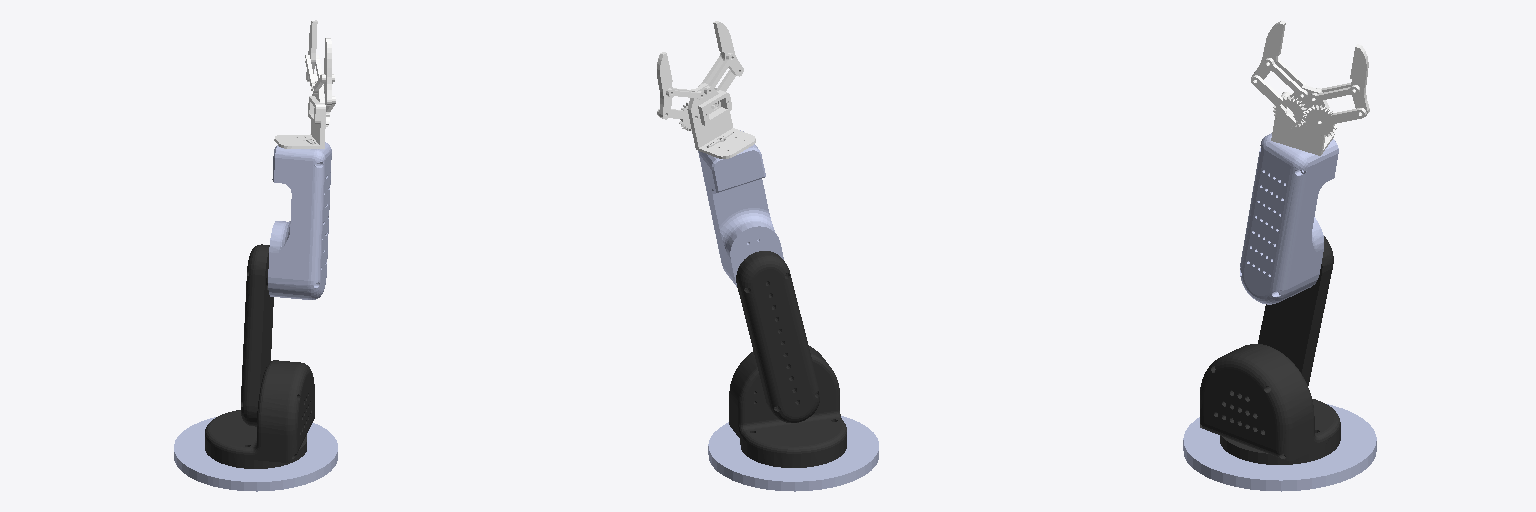
robot.urdf — Assembly.SLDASM:
<?xml version="1.0" encoding="utf-8"?>
<!-- This URDF was automatically created by SolidWorks to URDF Exporter! Originally created by Stephen Brawner (brawner@gmail.com) 
     Commit Version: 1.6.0-4-g7f85cfe  Build Version: 1.6.7995.38578
     For more information, please see http://wiki.ros.org/sw_urdf_exporter -->
<robot
  name="Assembly.SLDASM">
  <link
    name="base_link">
    <inertial>
      <origin
        xyz="0.59467 0.81201 1.311"
        rpy="0 0 0" />
      <mass
        value="0.20106" />
      <inertia
        ixx="0.00032337"
        ixy="-3.0943E-19"
        ixz="-3.4728E-20"
        iyy="0.0006434"
        iyz="1.0638E-18"
        izz="0.00032337" />
    </inertial>
    <visual>
      <origin
        xyz="0 0 0"
        rpy="0 0 0" />
      <geometry>
        <mesh
          filename="meshes/base_link.STL" />
      </geometry>
      <material
        name="">
        <color
          rgba="0.79216 0.81961 0.93333 1" />
      </material>
    </visual>
    <collision>
      <origin
        xyz="0 0 0"
        rpy="0 0 0" />
      <geometry>
        <mesh
          filename="meshes/base_link.STL" />
      </geometry>
    </collision>
  </link>
  <link
    name="Joint_1">
    <inertial>
      <origin
        xyz="0.013931 0.032196 0.00026755"
        rpy="0 0 0" />
      <mass
        value="0.25173" />
      <inertia
        ixx="0.00037252"
        ixy="-7.5458E-05"
        ixz="-7.0899E-07"
        iyy="0.00037014"
        iyz="-1.296E-06"
        izz="0.00032283" />
    </inertial>
    <visual>
      <origin
        xyz="0 0 0"
        rpy="0 0 0" />
      <geometry>
        <mesh
          filename="meshes/Joint_1.STL" />
      </geometry>
      <material
        name="">
        <color
          rgba="0.25098 0.25098 0.25098 1" />
      </material>
    </visual>
    <collision>
      <origin
        xyz="0 0 0"
        rpy="0 0 0" />
      <geometry>
        <mesh
          filename="meshes/Joint_1.STL" />
      </geometry>
    </collision>
  </link>
  <joint
    name="Joint_1"
    type="revolute">
    <origin
      xyz="0.59467 -1.311 0.81701"
      rpy="1.5708 0 -0.73072" />
    <parent
      link="base_link" />
    <child
      link="Joint_1" />
    <axis
      xyz="0 1 0" />
    <limit
      lower="-1.5708"
      upper="1.5708"
      effort="10"
      velocity="1" />
  </joint>
  <link
    name="Joint_2">
    <inertial>
      <origin
        xyz="-0.065 0.0021095 -1.5105E-07"
        rpy="0 0 0" />
      <mass
        value="0.12825" />
      <inertia
        ixx="3.1366E-05"
        ixy="-1.199E-11"
        ixz="3.2943E-11"
        iyy="0.00033268"
        iyz="2.323E-10"
        izz="0.00031027" />
    </inertial>
    <visual>
      <origin
        xyz="0 0 0"
        rpy="0 0 0" />
      <geometry>
        <mesh
          filename="meshes/Joint_2.STL" />
      </geometry>
      <material
        name="">
        <color
          rgba="0.25098 0.25098 0.25098 1" />
      </material>
    </visual>
    <collision>
      <origin
        xyz="0 0 0"
        rpy="0 0 0" />
      <geometry>
        <mesh
          filename="meshes/Joint_2.STL" />
      </geometry>
    </collision>
  </link>
  <joint
    name="Joint_2"
    type="revolute">
    <origin
      xyz="0 0.05 0"
      rpy="3.1416 -0.22804 -1.5708" />
    <parent
      link="Joint_1" />
    <child
      link="Joint_2" />
    <axis
      xyz="0 1 0" />
    <limit
      lower="-1.5708"
      upper="1.5708"
      effort="10"
      velocity="1" />
  </joint>
  <link
    name="Joint_3">
    <inertial>
      <origin
        xyz="0.038371 -1.2821E-05 -0.054604"
        rpy="0 0 0" />
      <mass
        value="0.17573" />
      <inertia
        ixx="0.00042327"
        ixy="-7.7642E-08"
        ixz="-7.3921E-08"
        iyy="0.00042384"
        iyz="2.0994E-07"
        izz="9.0533E-05" />
    </inertial>
    <visual>
      <origin
        xyz="0 0 0"
        rpy="0 0 0" />
      <geometry>
        <mesh
          filename="meshes/Joint_3.STL" />
      </geometry>
      <material
        name="">
        <color
          rgba="0.79216 0.81961 0.93333 1" />
      </material>
    </visual>
    <collision>
      <origin
        xyz="0 0 0"
        rpy="0 0 0" />
      <geometry>
        <mesh
          filename="meshes/Joint_3.STL" />
      </geometry>
    </collision>
  </link>
  <joint
    name="Joint_3"
    type="revolute">
    <origin
      xyz="-0.13 0 0"
      rpy="-1.5338 0 -1.5708" />
    <parent
      link="Joint_2" />
    <child
      link="Joint_3" />
    <axis
      xyz="1 0 0" />
    <limit
      lower="-1.5708"
      upper="1.5708"
      effort="10"
      velocity="1" />
  </joint>
  <link
    name="Wrist_Joint">
    <inertial>
      <origin
        xyz="0.0599348461098309 0.0981898770300264 -0.163045826672887"
        rpy="0 0 0" />
      <mass
        value="0.0334262148386834" />
      <inertia
        ixx="2.73150433272108E-05"
        ixy="-2.2965206080393E-06"
        ixz="4.52370431674856E-06"
        iyy="4.74846109616715E-05"
        iyz="3.15894482005253E-06"
        izz="2.57181983869544E-05" />
    </inertial>
    <visual>
      <origin
        xyz="0 0 0"
        rpy="0 0 0" />
      <geometry>
        <mesh
          filename="meshes/Wrist_Joint.STL" />
      </geometry>
      <material
        name="">
        <color
          rgba="1 1 1 1" />
      </material>
    </visual>
    <collision>
      <origin
        xyz="0 0 0"
        rpy="0 0 0" />
      <geometry>
        <mesh
          filename="meshes/Wrist_Joint.STL" />
      </geometry>
    </collision>
  </link>
  <joint
    name="Wrist_Joint"
    type="revolute">
    <origin
      xyz="-0.057807 0 0"
      rpy="0 0.53715 -1.9725" />
    <parent
      link="Joint_3" />
    <child
      link="Wrist_Joint" />
    <axis
      xyz="0.33591 -0.9204 0.20005" />
    <limit
      lower="-1.5708"
      upper="1.5708"
      effort="10"
      velocity="1" />
  </joint>
  <link
    name="Gripper_Mechanism">
    <inertial>
      <origin
        xyz="0.0599348461098308 0.0981898770300262 -0.163045826672887"
        rpy="0 0 0" />
      <mass
        value="0.0334262148386834" />
      <inertia
        ixx="2.73150433272108E-05"
        ixy="-2.2965206080393E-06"
        ixz="4.52370431674856E-06"
        iyy="4.74846109616715E-05"
        iyz="3.15894482005253E-06"
        izz="2.57181983869544E-05" />
    </inertial>
    <visual>
      <origin
        xyz="0 0 0"
        rpy="0 0 0" />
      <geometry>
        <mesh
          filename="meshes/Gripper_Mechanism.STL" />
      </geometry>
      <material
        name="">
        <color
          rgba="1 1 1 1" />
      </material>
    </visual>
    <collision>
      <origin
        xyz="0 0 0"
        rpy="0 0 0" />
      <geometry>
        <mesh
          filename="meshes/Gripper_Mechanism.STL" />
      </geometry>
    </collision>
  </link>
  <joint
    name="Gripper_Mechanism"
    type="revolute">
    <origin
      xyz="0 0 0"
      rpy="0 0 0" />
    <parent
      link="Wrist_Joint" />
    <child
      link="Gripper_Mechanism" />
    <axis
      xyz="0.33591 -0.9204 0.20005" />
    <limit
      lower="-1.5708"
      upper="1.5708"
      effort="10"
      velocity="1" />
  </joint>
</robot>

--- Facts derived from the render (not from the file) ---
3 views of the same robot in one strip: view 1: azimuth 30°, elevation 25°; view 2: azimuth 150°, elevation 25°; view 3: azimuth 270°, elevation 25° (orthographic).
Model Assembly.SLDASM with 6 links and 5 joints (5 revolute), rooted at base_link, posed all joints at 0.
Visible links, largest first — view 1: Joint_3, Joint_1, base_link, Joint_2, Gripper_Mechanism; view 2: Joint_2, Joint_1, Joint_3, Gripper_Mechanism, base_link; view 3: Joint_1, Joint_3, base_link, Gripper_Mechanism, Joint_2.
Link boxes in pixels (bbox=[...]): Joint_3: bbox=[268, 142, 331, 299]; Joint_1: bbox=[205, 360, 314, 468]; base_link: bbox=[174, 417, 337, 491]; Joint_2: bbox=[241, 244, 273, 426]; Gripper_Mechanism: bbox=[274, 20, 335, 148]; Joint_2: bbox=[736, 251, 819, 422]; Joint_1: bbox=[729, 346, 846, 467]; Joint_3: bbox=[698, 130, 783, 286]; Gripper_Mechanism: bbox=[657, 21, 755, 158]; base_link: bbox=[708, 416, 878, 491]; Joint_1: bbox=[1200, 344, 1340, 464]; Joint_3: bbox=[1240, 133, 1338, 304]; base_link: bbox=[1183, 404, 1376, 491]; Gripper_Mechanism: bbox=[1251, 20, 1369, 155]; Joint_2: bbox=[1258, 236, 1333, 385].
Bounding box of the posed robot: 0.1871 × 0.1599 × 0.4293 m (x, y, z).
5 mesh visuals loaded from 6 distinct referenced files (5 binary STL); not drawn: 1 (reference not matched to a file when rendering).
